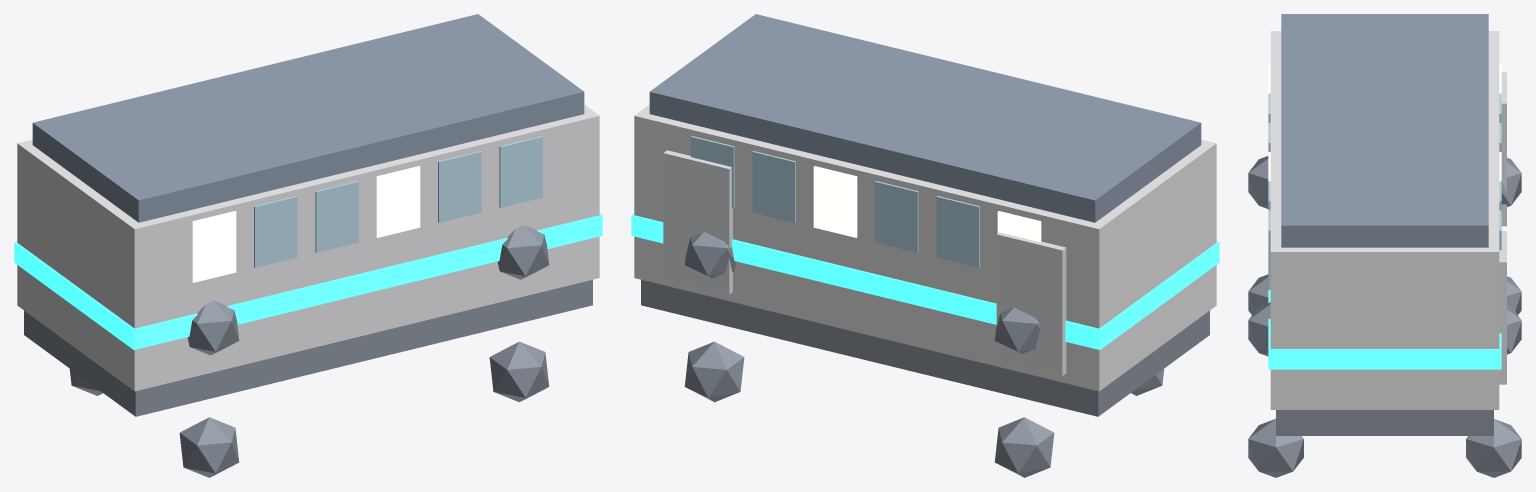
The model's file is car.glb.
3 views of the same model, side by side, from view 1: azimuth 30°, elevation 25°; view 2: azimuth 150°, elevation 25°; view 3: azimuth 270°, elevation 25° (orthographic). The views are drawn at different scales.
Visible parts, largest first — view 1: MetroCar; view 2: MetroCar; view 3: MetroCar.
Boxes of the visible parts, <box> form: MetroCar: <box>14,14,602,477</box>; MetroCar: <box>631,14,1219,477</box>; MetroCar: <box>1248,14,1521,477</box>.
Bounding box in the file's own units: 2.42 × 1.44 × 1.26.
